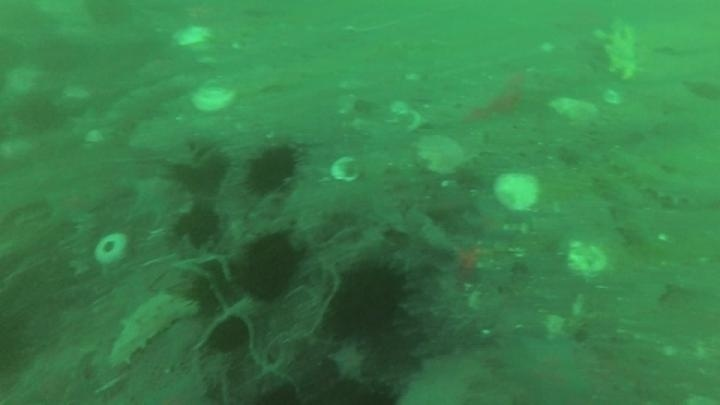echinus: (329, 260, 409, 337), (236, 233, 302, 302), (171, 143, 231, 197), (243, 144, 300, 196), (320, 376, 402, 404), (12, 91, 63, 136), (174, 204, 223, 248), (81, 1, 137, 29)
holothurian: (106, 291, 198, 371), (607, 148, 714, 210), (592, 168, 655, 250)
scallop: (414, 132, 467, 178), (491, 168, 543, 214), (547, 94, 600, 128), (190, 78, 237, 116)
starfish: (501, 331, 592, 405), (5, 340, 102, 405), (124, 172, 183, 225), (43, 185, 103, 228), (463, 198, 514, 244), (326, 338, 371, 385), (448, 242, 486, 284)
